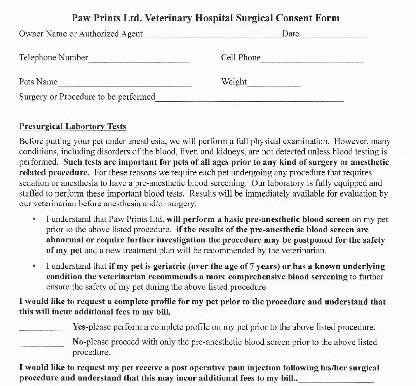textline: (153, 90, 348, 105), (56, 74, 195, 90), (141, 27, 284, 41), (258, 51, 367, 65), (85, 52, 195, 65), (299, 27, 371, 42), (294, 372, 379, 384), (243, 73, 305, 89), (15, 320, 69, 335), (16, 337, 69, 350)
